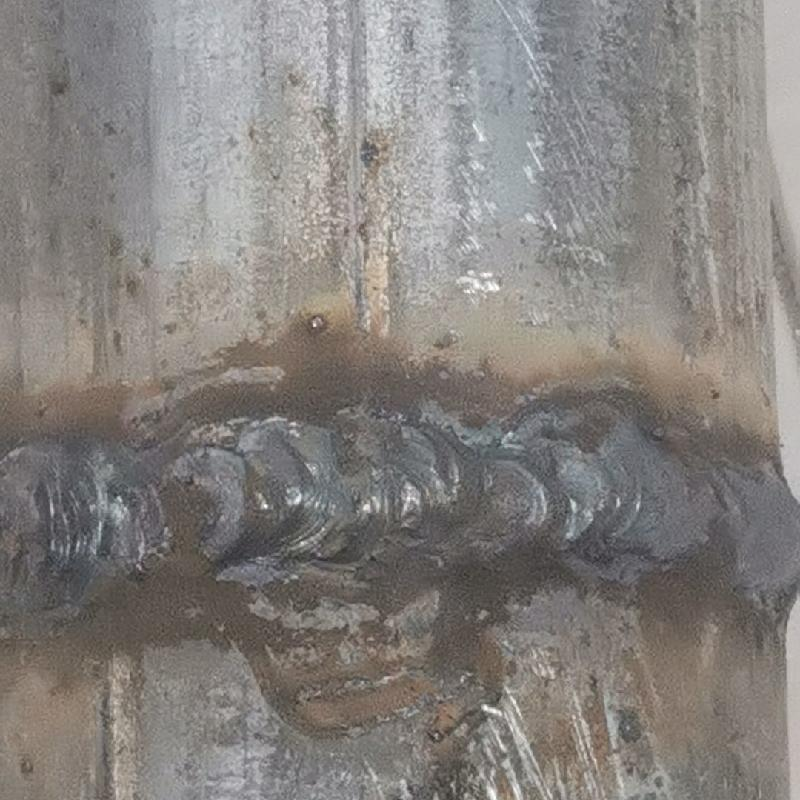good: (0, 409, 799, 616)
